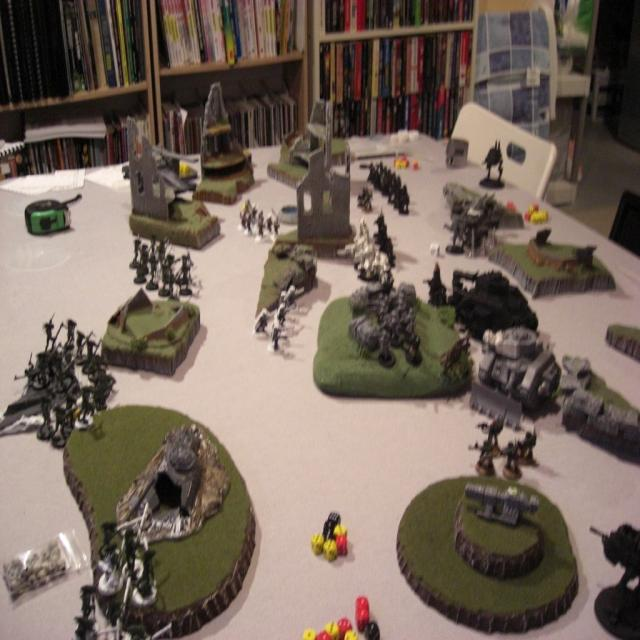tank: (471, 323, 561, 429), (448, 268, 538, 337)
